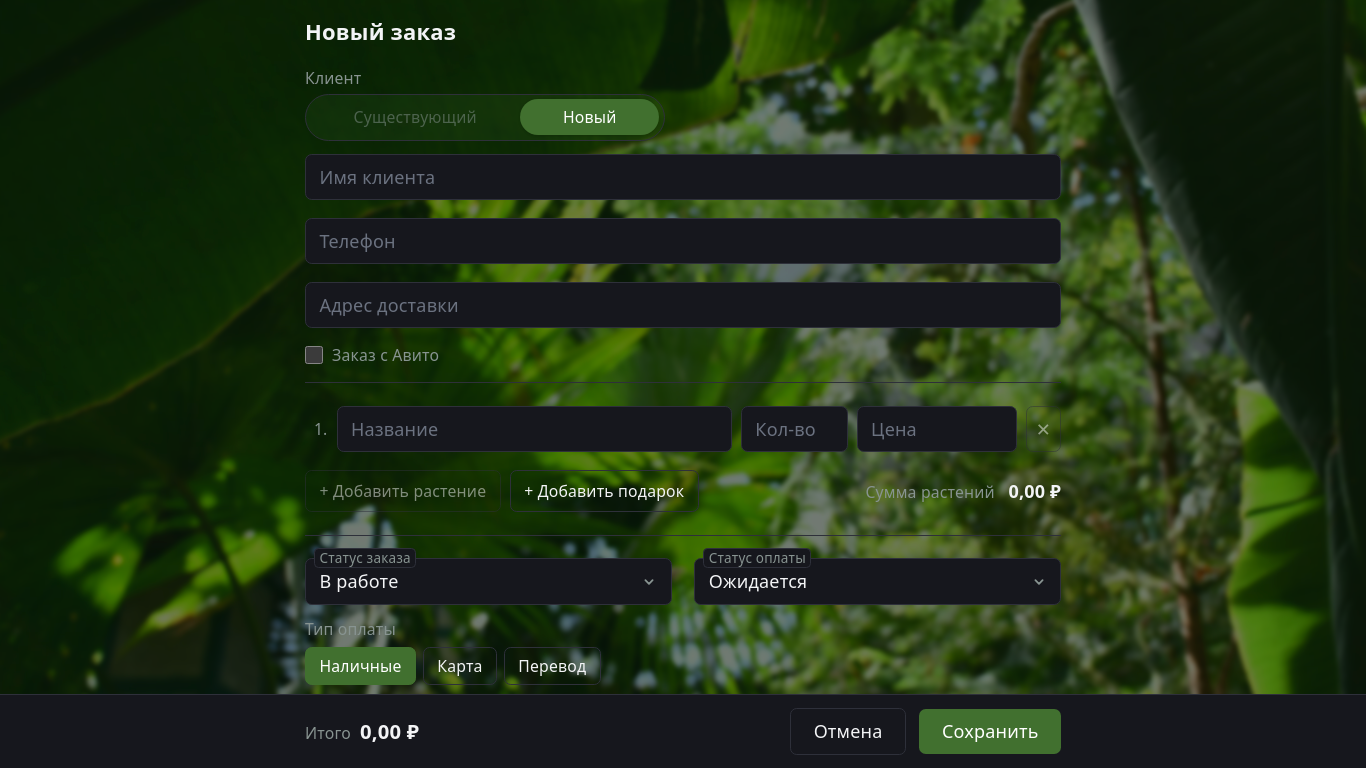
OrderForm draft (create only, localStorage) › keeps the draft when the save fails, so the input still survives a leave
Type "Борис" into the field labelled "Имя клиента". click: (683, 177)
box: [305,154,1061,200]
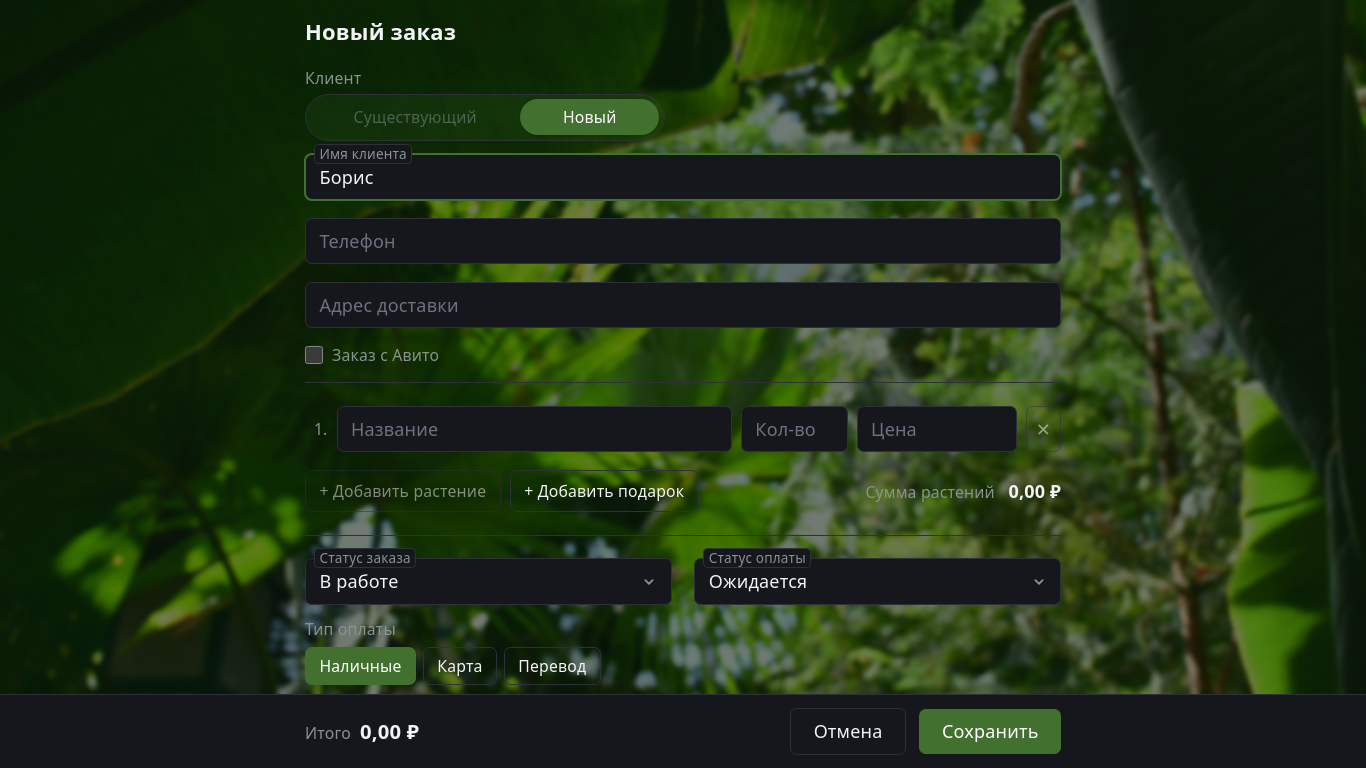
Type "Роза" into the dropdown labelled "Название". click: (534, 429)
box: [336,406,732,452]
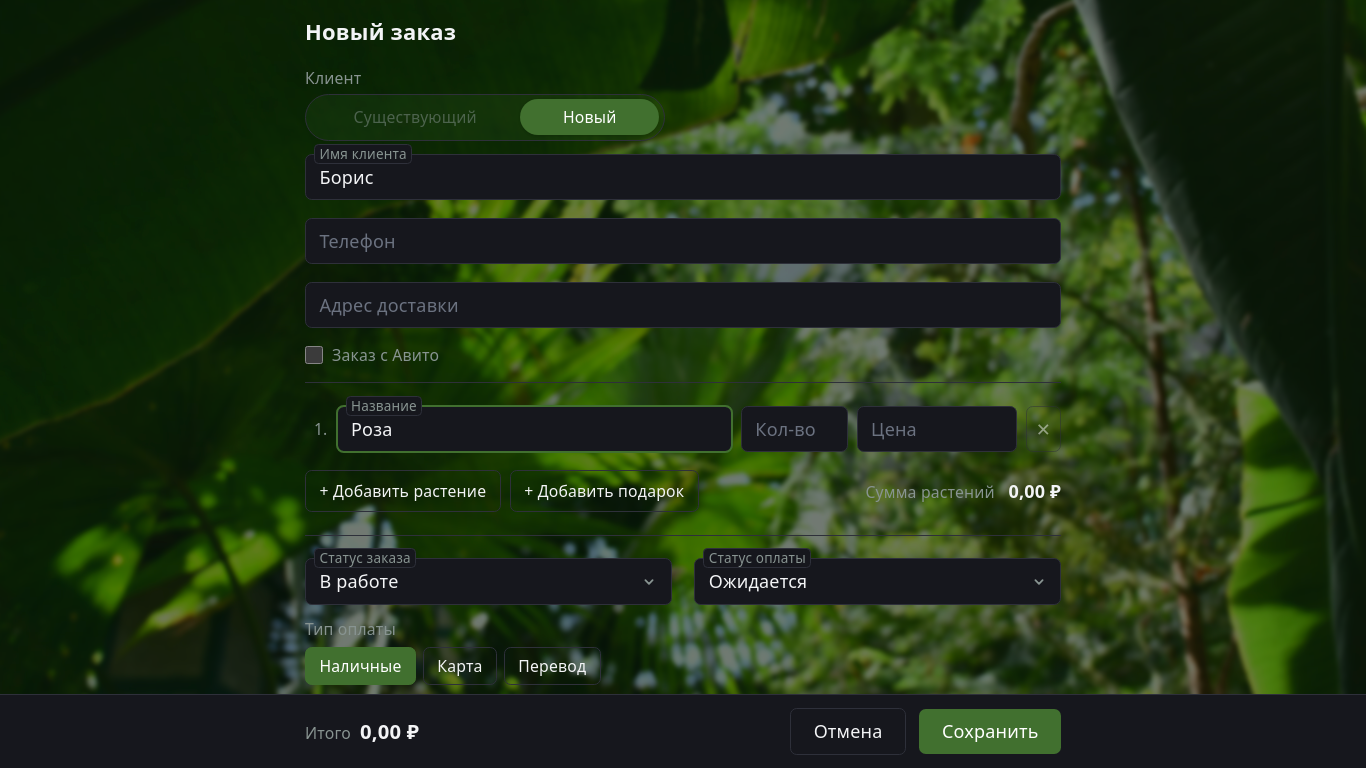
Type "100" into the field labelled "Цена". click: (937, 429)
box: [857,406,1017,452]
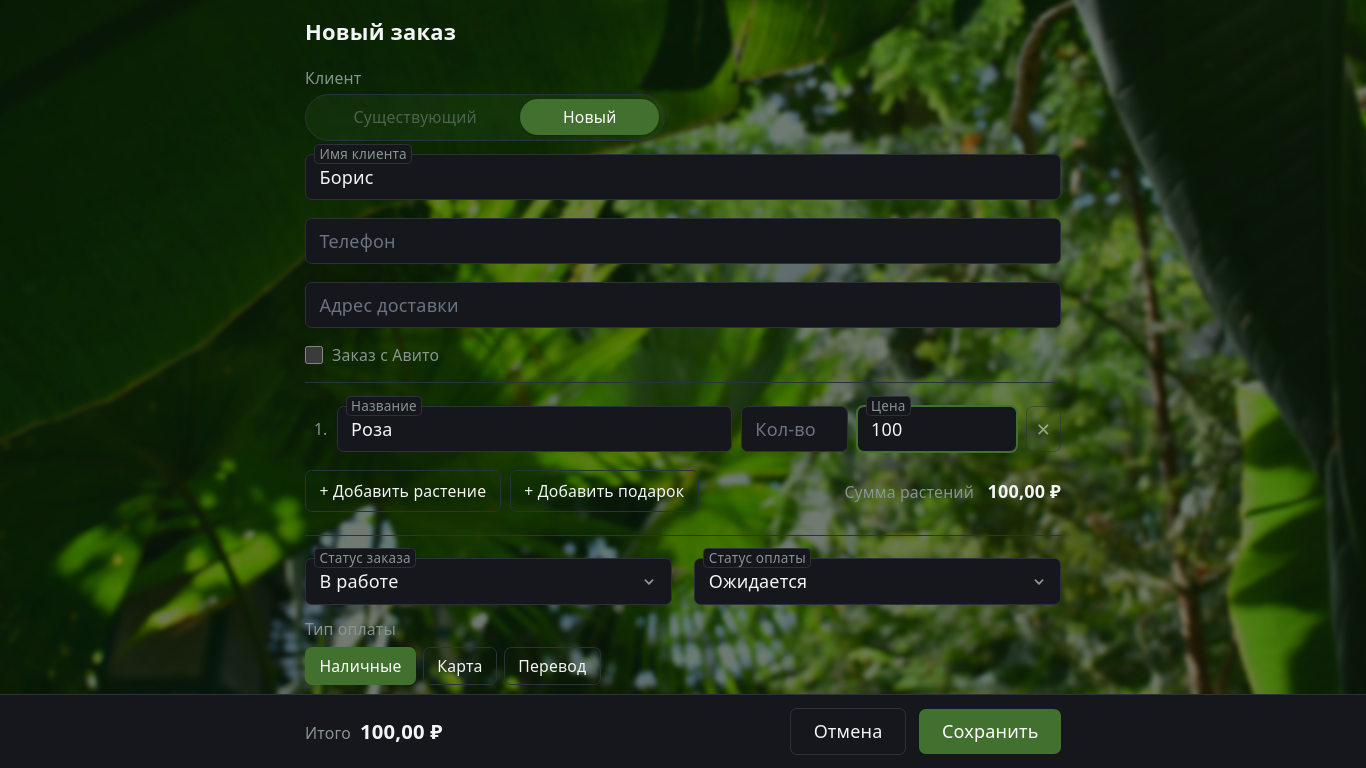
Click the button "Сохранить". click: (990, 731)
box: [920,709,1061,754]
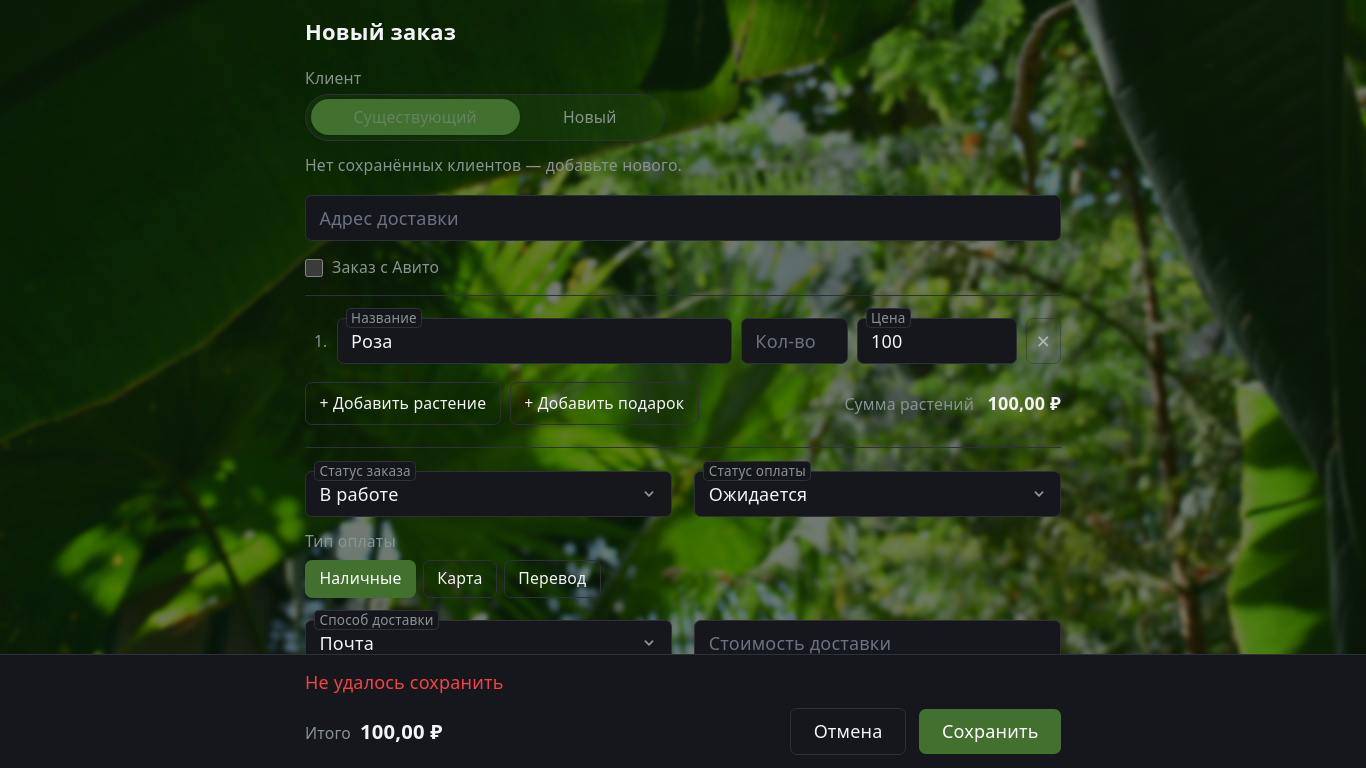
Result: the message "Не удалось сохранить" is shown at [305,670,504,694]
